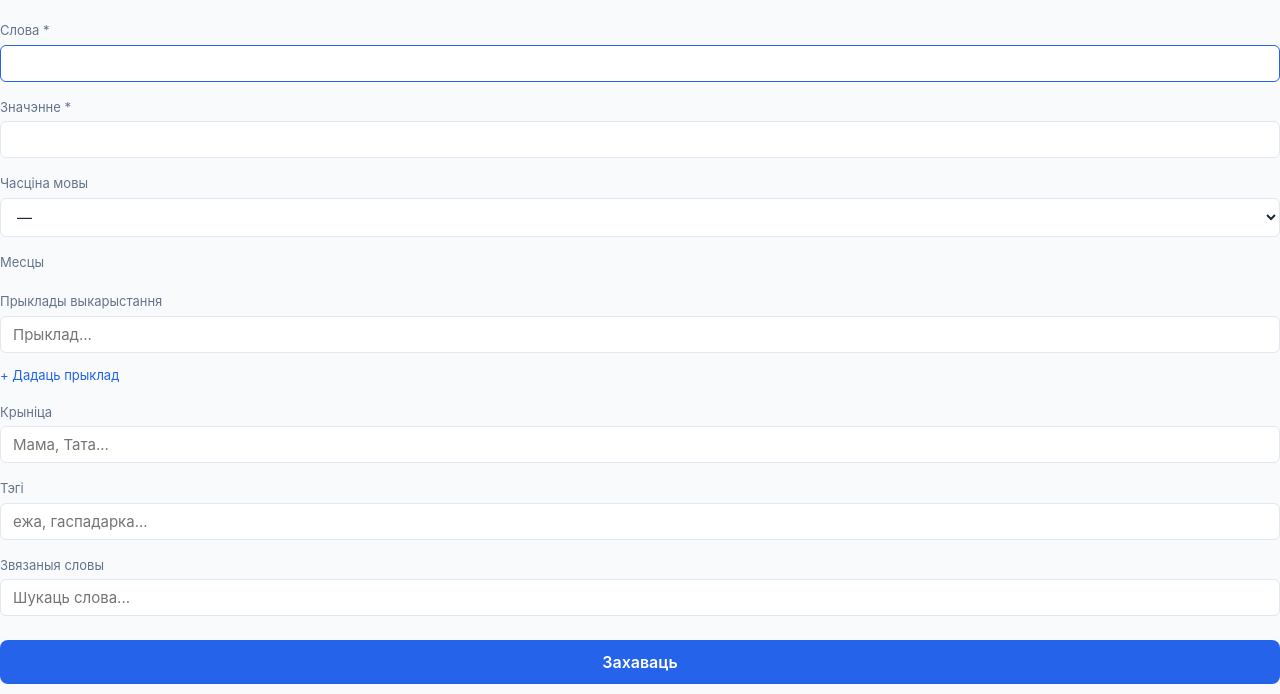
Test: WordFormPage validation › shows error when submitting empty form
This screenshot has width=1280, height=694.
(page scrolled)
What coordinates should you click on to do the following:
click the button "Захаваць"
I would click on:
 (640, 662)
Its box is [0,640,1279,684].
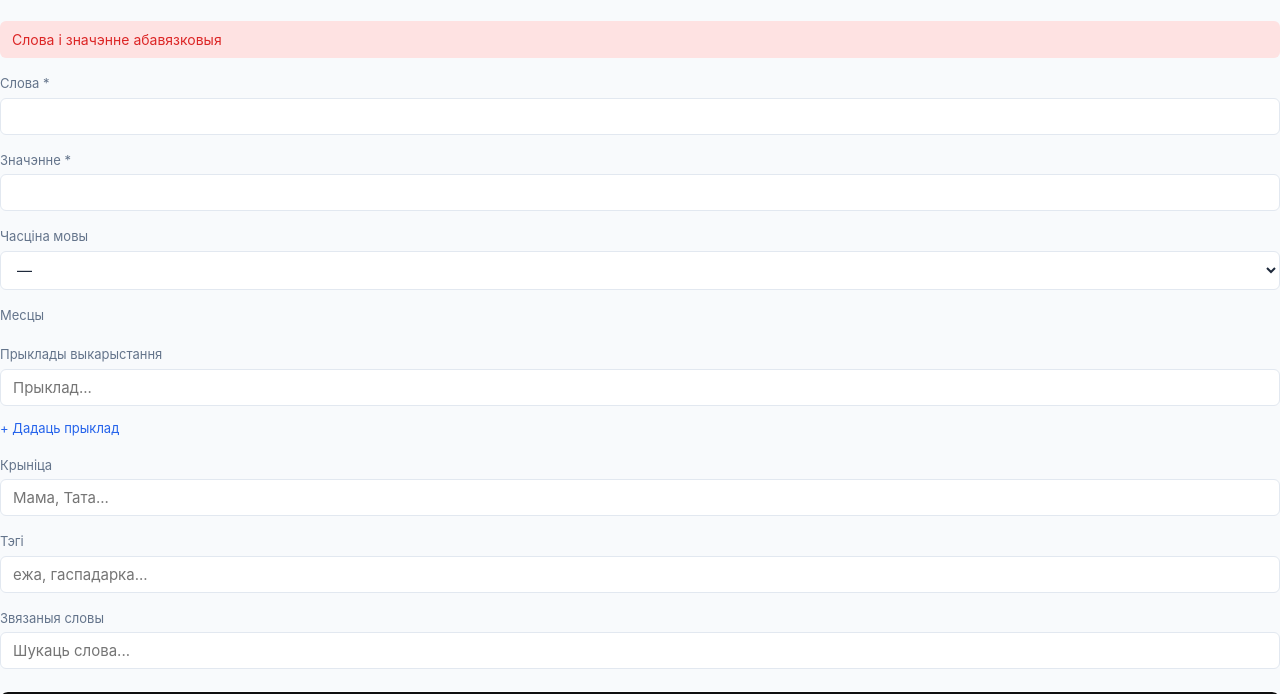
Expected: the text "Слова і значэнне абавязковыя" is shown, [0,21,1279,58]
